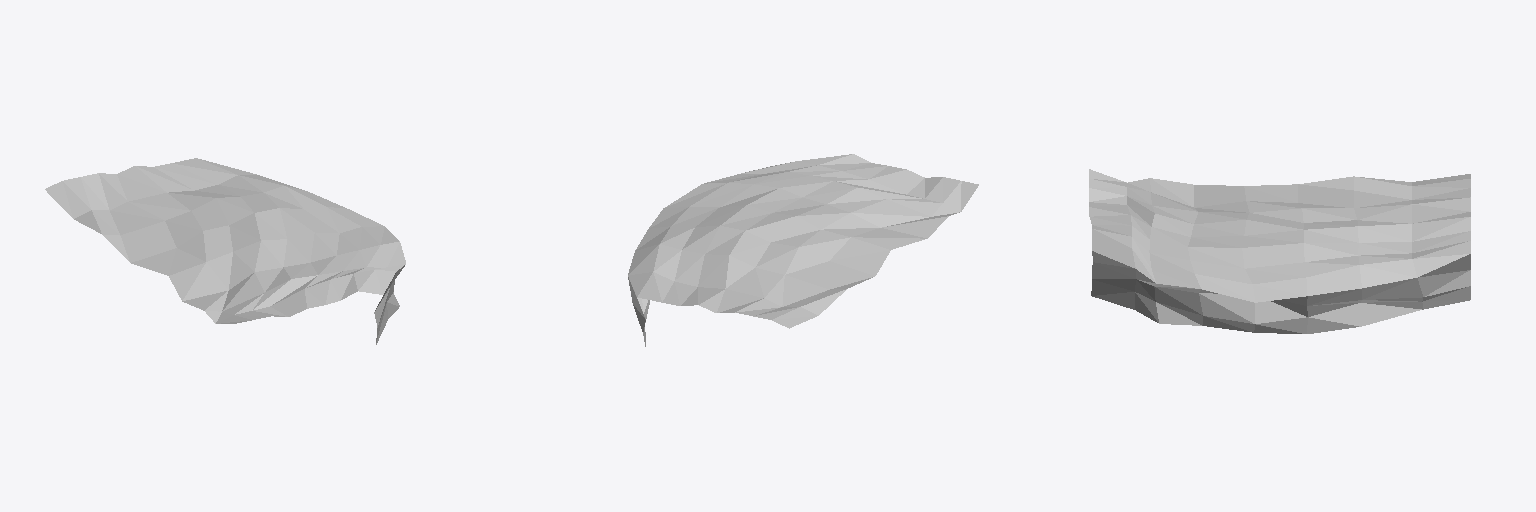
Rendered from Morro-05.obj.
3 renders of one model, left to right at view 1: azimuth 30°, elevation 25°; view 2: azimuth 150°, elevation 25°; view 3: azimuth 270°, elevation 25°, orthographic.
Visible parts, largest first — view 1: Plane.001; view 2: Plane.001; view 3: Plane.001.
Part boxes in pixels (x1,y1,x2,y2): Plane.001: (45,158,405,344); Plane.001: (628,154,978,346); Plane.001: (1089,169,1470,333).
Size of the model in its own units: 10.76 by 2.77 by 15.21.